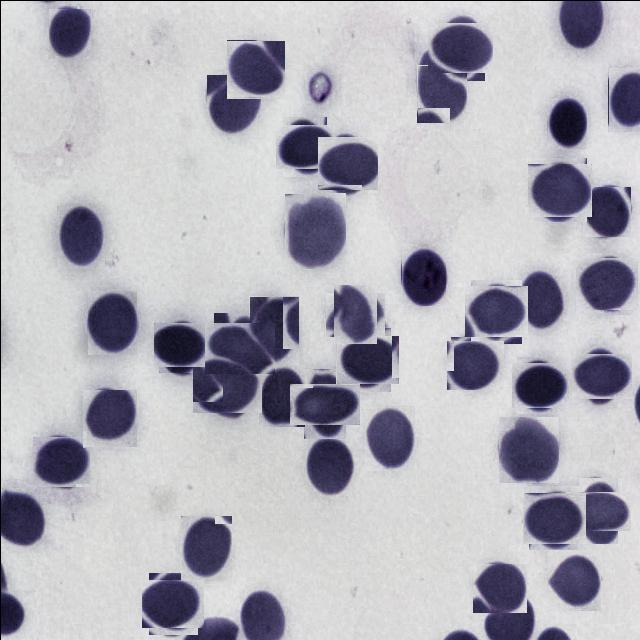red blood cell: (283, 192, 345, 268), (498, 416, 558, 482), (208, 316, 270, 378), (196, 356, 258, 417), (248, 295, 298, 364), (179, 514, 231, 580), (530, 160, 588, 219), (524, 488, 582, 546), (578, 254, 636, 312), (430, 18, 488, 76), (546, 548, 600, 610), (304, 437, 358, 499), (206, 74, 260, 136), (467, 282, 524, 340), (226, 40, 284, 97), (364, 406, 414, 472), (318, 134, 376, 190), (56, 202, 104, 268), (296, 375, 352, 431), (338, 332, 394, 388), (87, 290, 136, 354), (144, 575, 200, 631), (82, 390, 136, 448), (256, 363, 304, 426), (33, 434, 87, 488), (416, 64, 466, 122), (448, 338, 502, 391), (571, 484, 624, 537), (574, 349, 627, 402), (514, 358, 566, 411), (328, 288, 381, 340), (278, 120, 330, 172), (472, 563, 526, 612), (155, 320, 205, 370), (582, 186, 630, 236), (520, 271, 562, 323), (607, 66, 640, 131), (48, 8, 90, 58), (546, 96, 586, 148)
ring: (400, 243, 445, 306)
